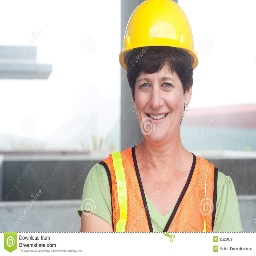helmet: (119, 3, 201, 63)
person: (80, 1, 244, 237)
vest: (99, 155, 216, 239)
